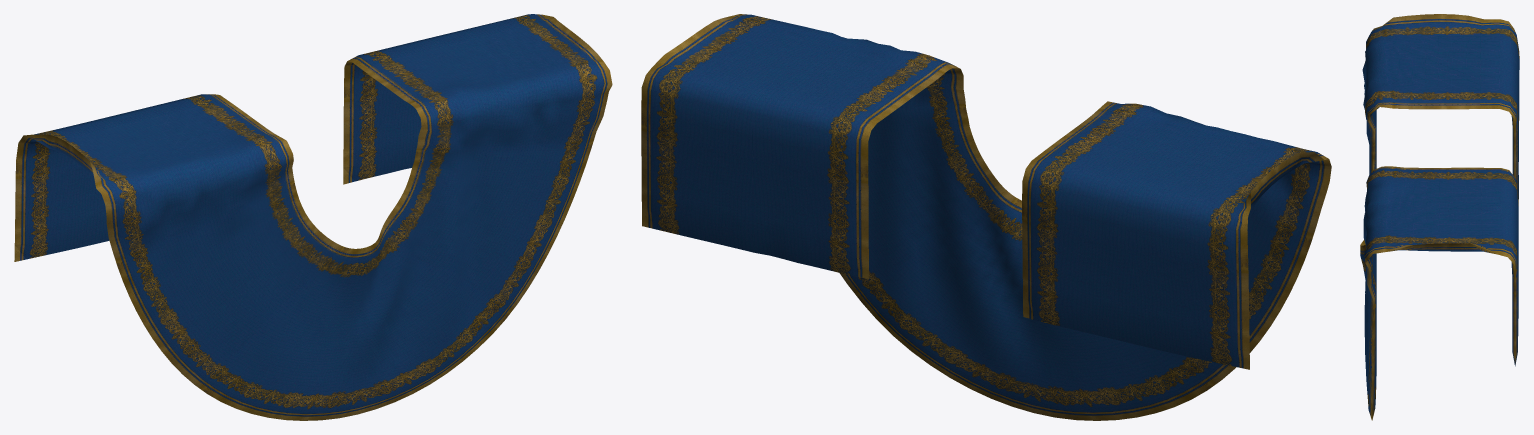
Rendered from Sponza17.gltf.
The picture shows the model from 3 angles, left to right: view 1: azimuth 30°, elevation 25°; view 2: azimuth 150°, elevation 25°; view 3: azimuth 270°, elevation 25°; orthographic projection. The views are drawn at different scales.
Bounding box in the file's own units: 2.64 × 1.45 × 0.761.
1 material, 1 textured.
